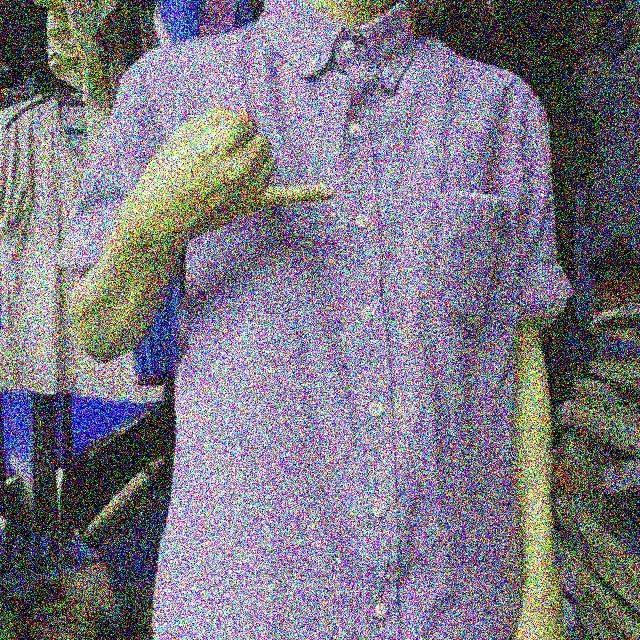J: (132, 99, 340, 234)
